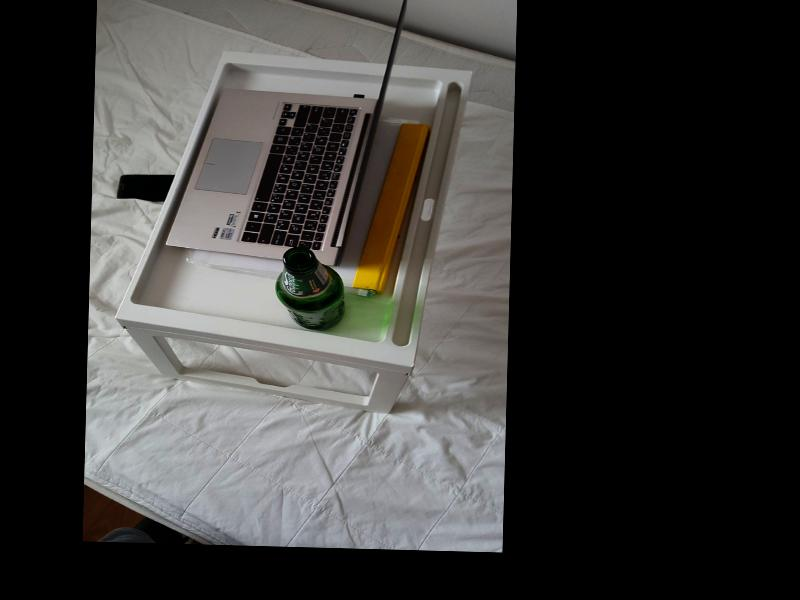Beer: (274, 247, 346, 331)
